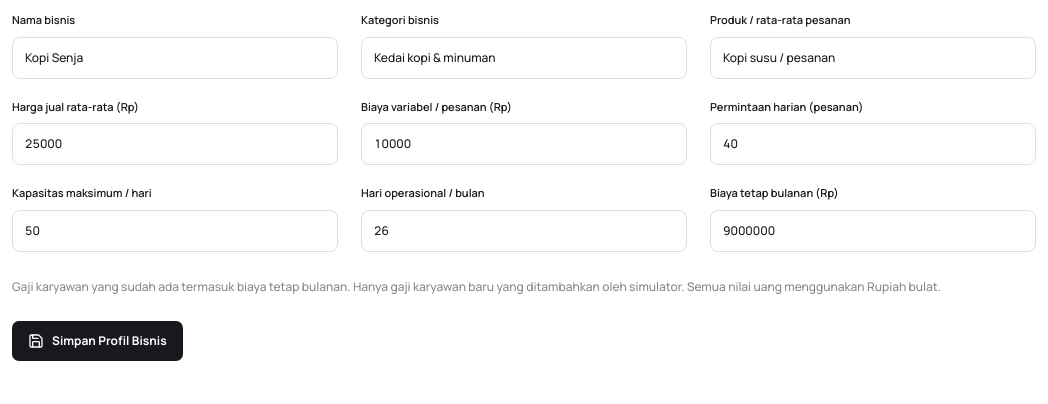
Scenario: business profile form › validates negative inputs before saving
Replace the text in the number field labelled "Harga jual rata-rata (Rp)" with "-10": (175, 144) x1=12 y1=123 x2=338 y2=165
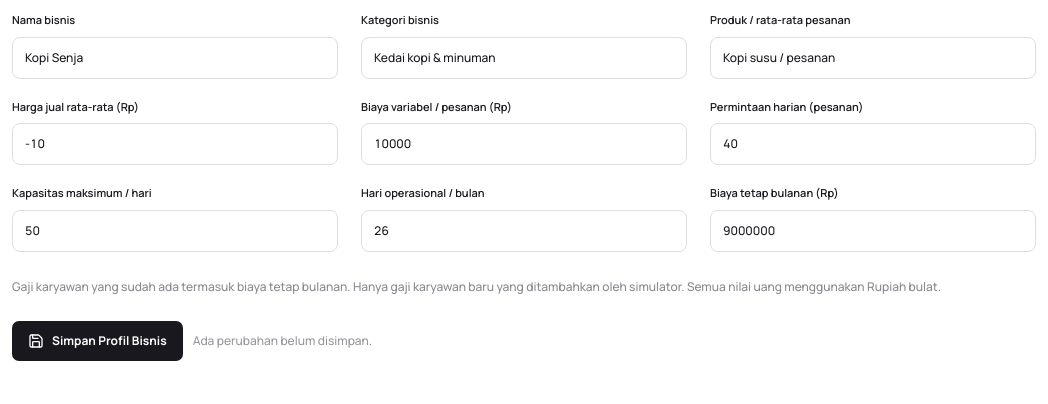
Click the button "Simpan Profil Bisnis": (97, 341) x1=12 y1=321 x2=183 y2=361
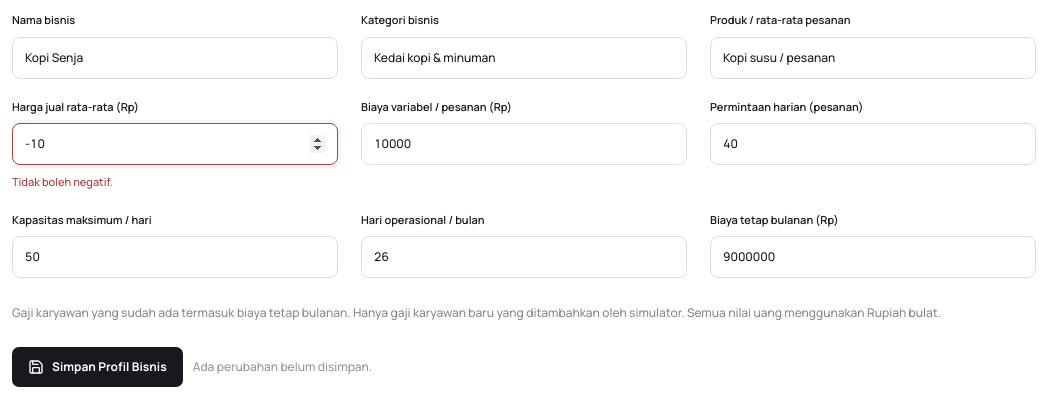
Result: the text "Tidak boleh negatif." is shown at x1=12 y1=174 x2=113 y2=189
